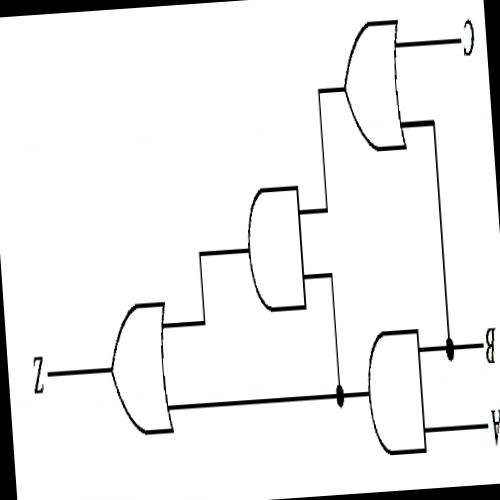and: (359, 318, 432, 468), (241, 180, 311, 324)
or: (103, 294, 178, 450), (337, 10, 409, 162)
